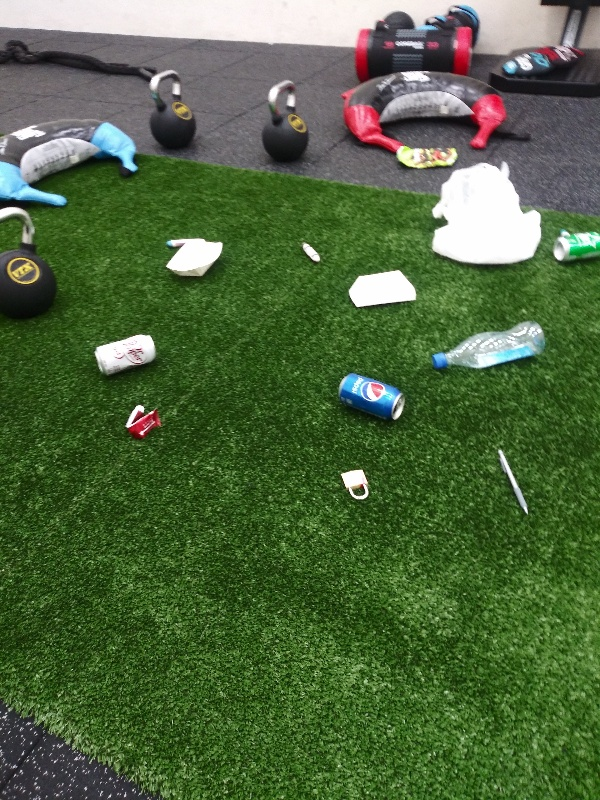bag: (391, 142, 466, 173)
bottle: (427, 317, 552, 375)
can: (331, 369, 408, 425), (91, 329, 163, 381), (550, 230, 600, 264)
plate: (347, 267, 423, 313), (162, 235, 229, 282)
